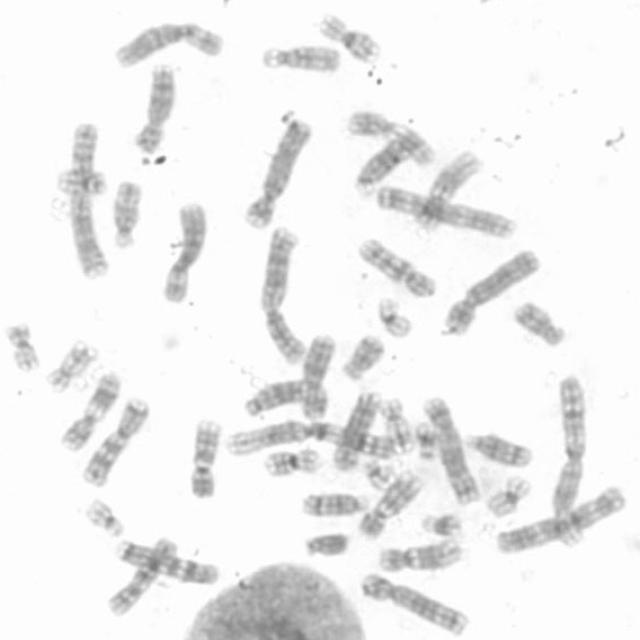A1: (222, 415, 400, 461), (548, 369, 588, 553)
A2: (253, 220, 310, 366), (63, 116, 113, 280)
A3: (491, 481, 628, 555), (373, 181, 517, 240)
B4: (438, 245, 542, 336), (238, 114, 312, 230)
B5: (357, 569, 470, 637), (419, 392, 484, 508)
C10: (101, 534, 177, 618), (352, 232, 440, 300)
C11: (342, 106, 438, 167), (55, 368, 123, 453)
C12: (410, 146, 485, 233), (373, 534, 464, 574)
C6: (110, 17, 226, 70), (158, 198, 210, 304)
C7: (78, 394, 151, 489), (109, 534, 221, 586)
C8: (328, 387, 383, 474), (131, 62, 177, 154)
C9: (354, 467, 426, 541), (184, 413, 224, 500)
D13: (352, 132, 424, 200), (241, 374, 309, 418)
D14: (460, 428, 535, 469), (296, 488, 371, 518)
D15: (257, 38, 345, 74), (107, 176, 144, 251)
E16: (314, 7, 382, 66), (260, 443, 324, 478)
E17: (41, 334, 99, 394), (376, 393, 415, 454)
E18: (509, 296, 569, 350), (338, 330, 387, 382)
F19: (480, 473, 533, 520), (374, 293, 414, 339)
F20: (0, 316, 43, 375), (52, 168, 108, 198)
G21: (417, 509, 464, 541), (409, 419, 441, 462)
G22: (81, 493, 126, 539), (358, 456, 397, 491)
X: (297, 330, 337, 421)
Y: (301, 529, 349, 558)
